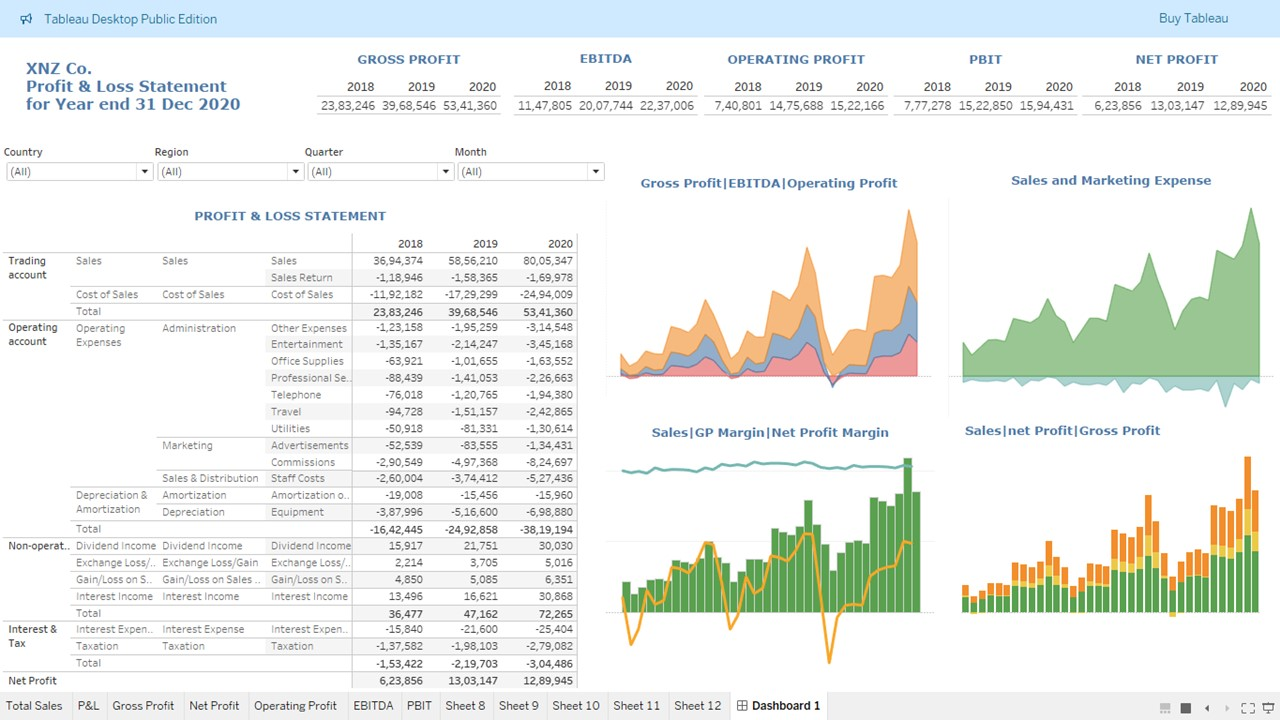

What the dashboard file says about the page in this screenshot:
{"tool":"tableau","page":{"name":"Dashboard 1","canvas":[1000,1000],"units":"permille","ordinal":0},"visuals":[{"type":"title","box":[18.7,3.6,207.5,144.1]},{"type":"worksheet","title":"EBITDA","mark":"Automatic","cols":["Date (Calendar)"],"box":[401.5,14.2,150,142.3]},{"type":"worksheet","title":"Gross Profit","mark":"Automatic","cols":["Date (Calendar)"],"box":[247.8,16,153.7,142.3]},{"type":"worksheet","title":"Operating Profit","mark":"Automatic","cols":["Date (Calendar)"],"box":[550,16,148.5,144.1]},{"type":"worksheet","title":"PBIT","mark":"Automatic","cols":["Date (Calendar)"],"box":[697.8,16,147,172.6]},{"type":"worksheet","title":"Net Profit","mark":"Automatic","cols":["Date (Calendar)"],"box":[844.8,16,153.7,138.8]},{"type":"filter","title":"P&L","param":"[federated.1eqq2k51r41y211ffzjnn1qv825l].[none:Country:nk]","box":[3,163.7,119.4,106.8]},{"type":"filter","title":"P&L","param":"[federated.1eqq2k51r41y211ffzjnn1qv825l].[none:Region:nk]","box":[120.9,163.7,119.4,92.5]},{"type":"filter","title":"P&L","param":"[federated.1eqq2k51r41y211ffzjnn1qv825l].[none:Quarter:nk]","box":[238.1,163.7,119.4,76.5]},{"type":"filter","title":"P&L","param":"[federated.1eqq2k51r41y211ffzjnn1qv825l].[none:Month:nk]","box":[355.2,163.7,119.4,83.6]},{"type":"worksheet","title":"Sheet 10","mark":"Area","cols":["Date (Calendar)"],"box":[740.3,201.1,254.6,379]},{"type":"worksheet","title":"Sheet 9","mark":"Area","cols":["Date (Calendar)"],"box":[472.7,204.6,254.6,343.4]},{"type":"worksheet","title":"P&L","mark":"Automatic","rows":["Class","SubClass","SubClass2","Account"],"cols":["Date (Calendar)"],"box":[2.2,254.5,473.1,740.2]},{"type":"worksheet","title":"Sheet 12","mark":"Bar","cols":["Date (Calendar)","Date (Calendar)","Date (Calendar)"],"box":[750.6,583.6,232.9,314.9]},{"type":"worksheet","title":"Sheet 11","mark":"Automatic","rows":["Calculation_327636875976085504"],"cols":["Date (Calendar)"],"box":[472.7,585.4,257.1,386.1]}]}

Visuals, with their boxes on the dashboard's canvas, which has no fixed pixel size, in thousandths of its width and height (x1, y1, x2, y2). These are canvas units, not pixel positions in the 1280x720 screenshot, which may show the page scaled, cropped or inside an application window:
title: 19/4/226/148
"EBITDA" worksheet: 402/14/552/156
"Gross Profit" worksheet: 248/16/402/158
"Operating Profit" worksheet: 550/16/698/160
"PBIT" worksheet: 698/16/845/189
"Net Profit" worksheet: 845/16/998/155
"P&L" filter: 3/164/122/270
"P&L" filter: 121/164/240/256
"P&L" filter: 238/164/358/240
"P&L" filter: 355/164/475/247
"Sheet 10" worksheet (Area marks): 740/201/995/580
"Sheet 9" worksheet (Area marks): 473/205/727/548
"P&L" worksheet: 2/254/475/995
"Sheet 12" worksheet (Bar marks): 751/584/984/898
"Sheet 11" worksheet: 473/585/730/972
